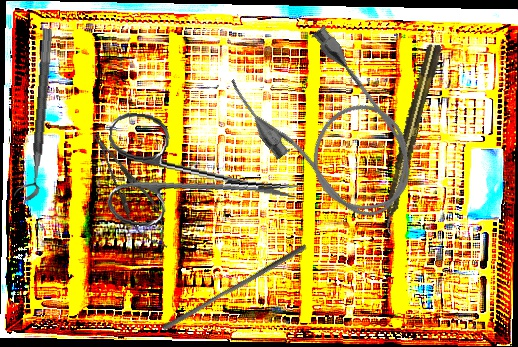Cannula: (221, 14, 438, 244)
Fixation Ring: (13, 27, 54, 202)
Handpiece: (375, 42, 445, 236)
Iris Scissors: (98, 110, 308, 245)
Needle Holder: (80, 123, 179, 257)
Pusher: (160, 237, 309, 337)
